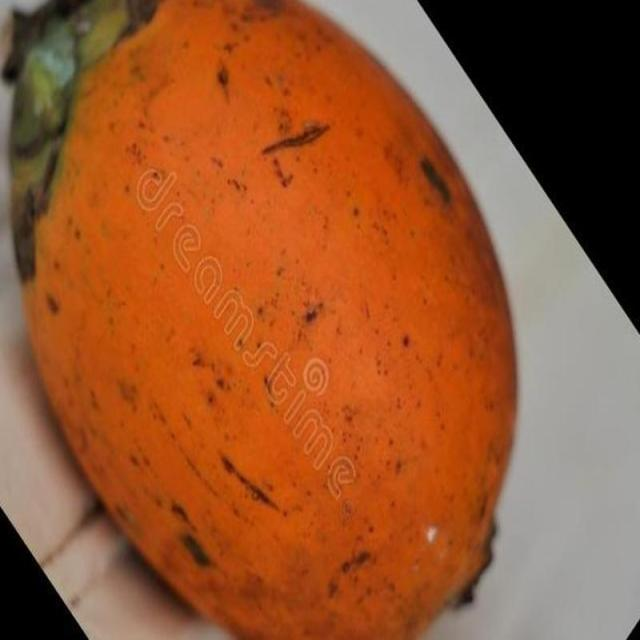good: (13, 0, 519, 639)
